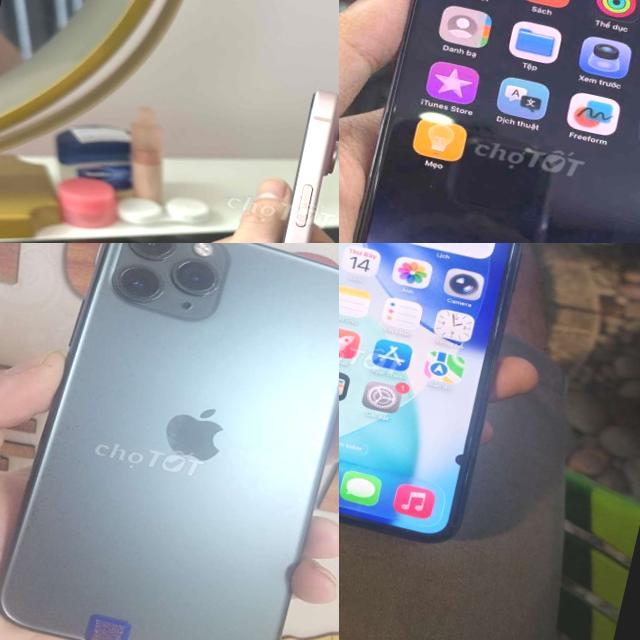gen_11: (0, 243, 339, 640), (339, 243, 557, 554)
gen_14: (339, 0, 640, 243)
gen_15: (206, 75, 339, 243)
